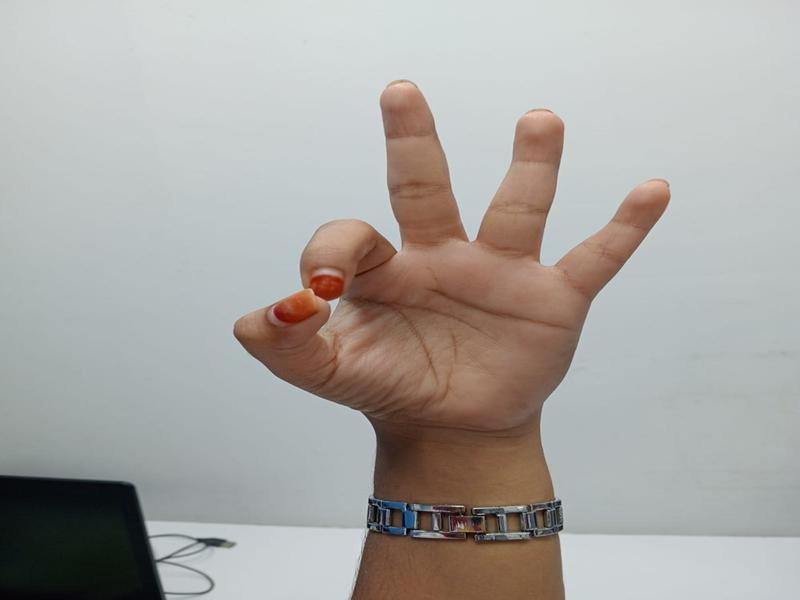UP: (217, 49, 678, 600)
